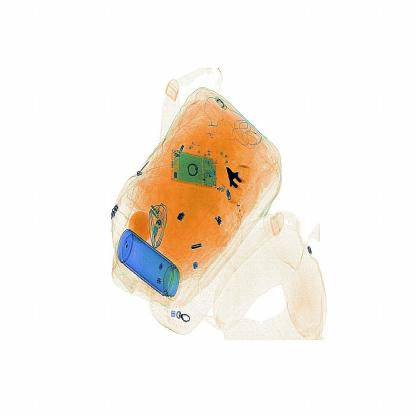gun: (218, 146, 258, 216)
